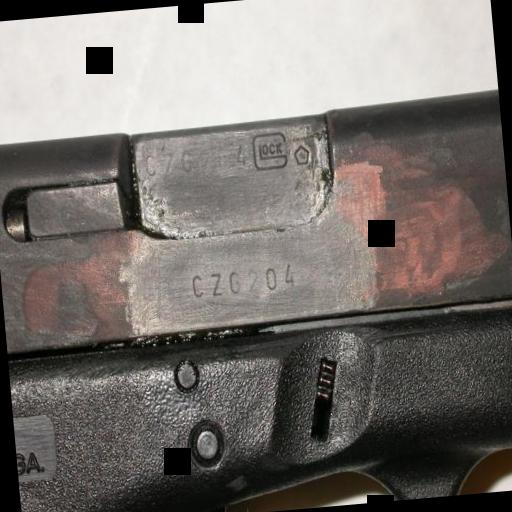Handgun: (0, 85, 512, 512)
